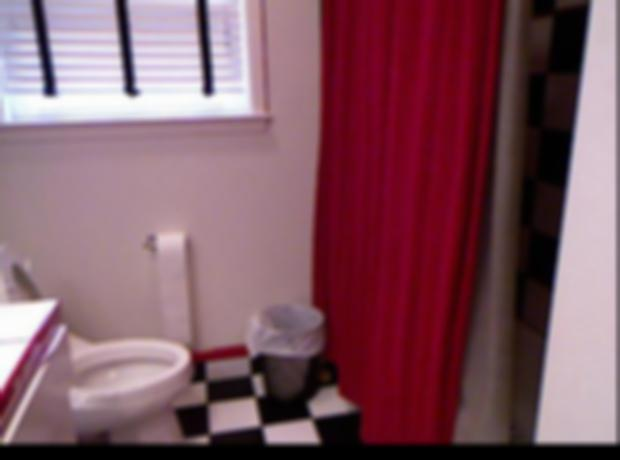Bote de Basura: (243, 286, 331, 402)
Ducha: (317, 0, 615, 428)
Sanitario: (0, 242, 193, 440)
